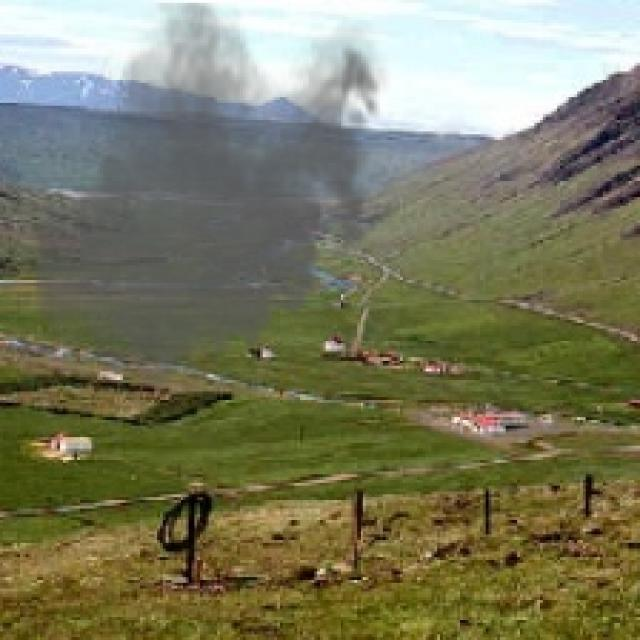smoke: (26, 3, 391, 406)
